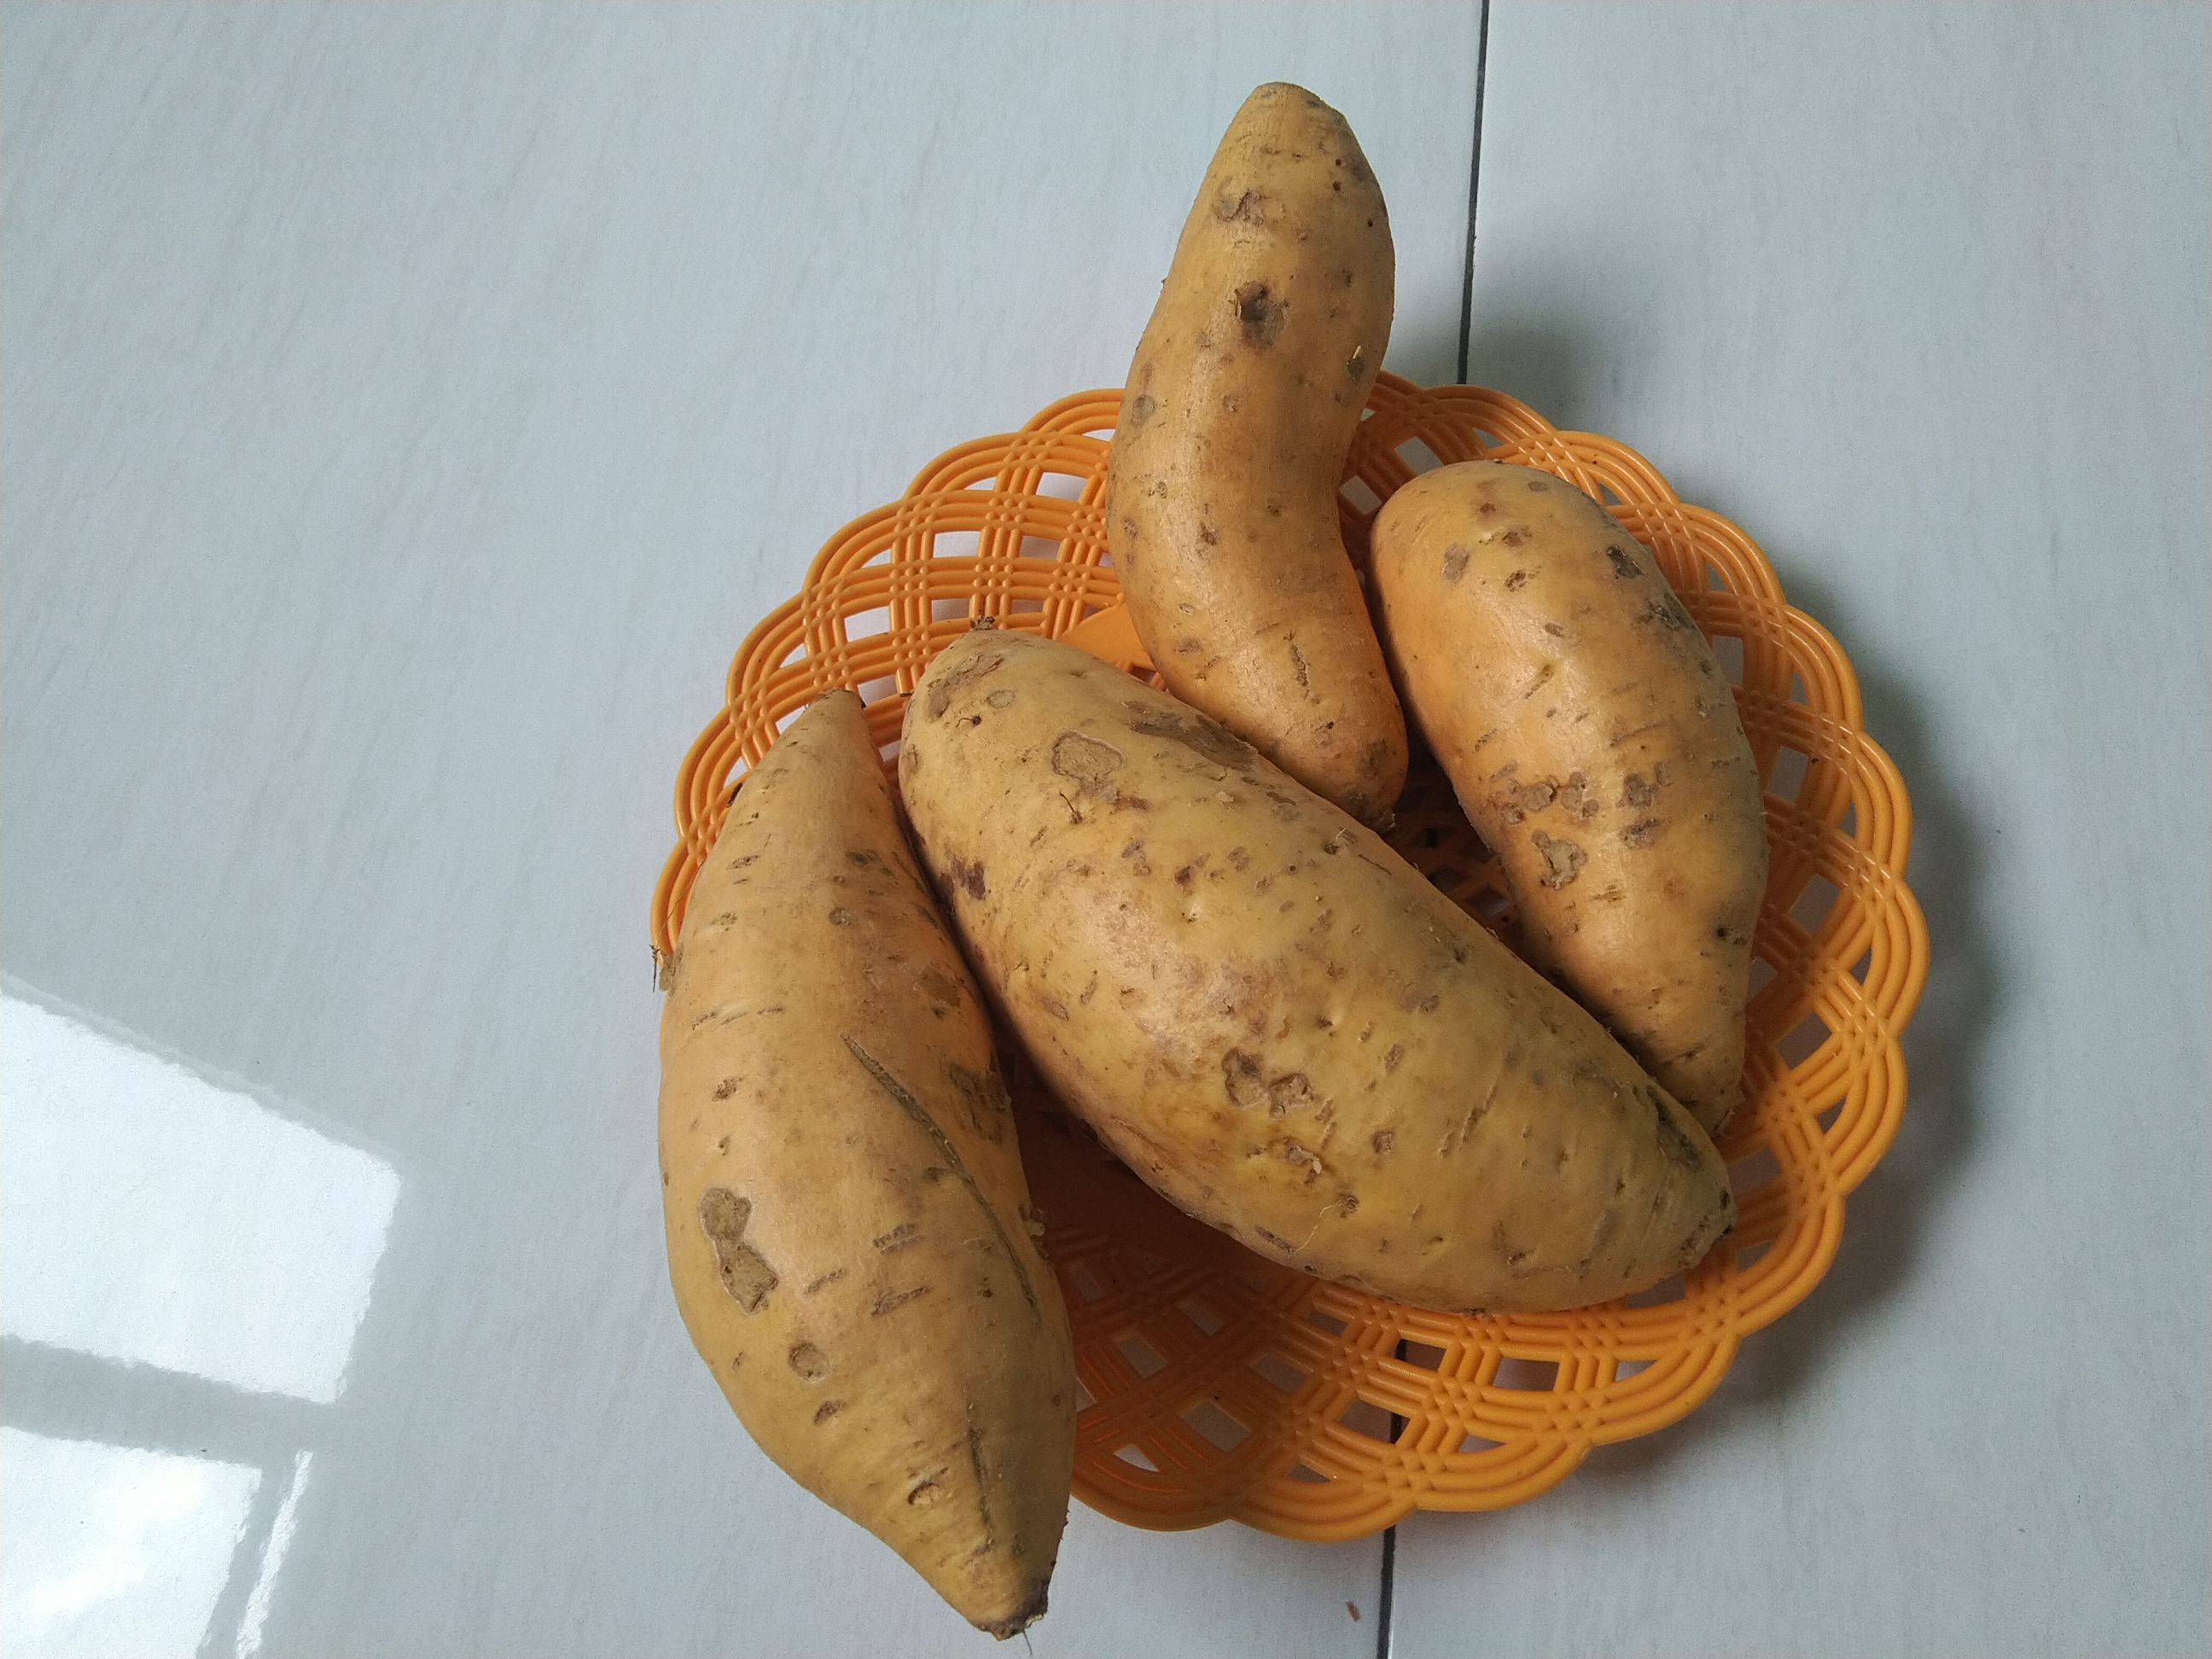ubi cilembu: (895, 624, 1780, 1338), (641, 681, 1097, 1645), (1346, 453, 1808, 1140), (1094, 70, 1414, 816)
